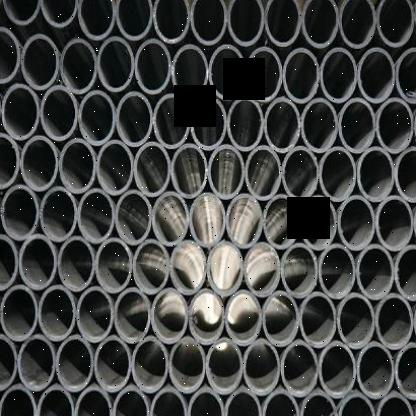pipe: (0, 285, 39, 341), (19, 233, 57, 290), (337, 292, 375, 349), (18, 334, 56, 391), (243, 338, 281, 395), (281, 340, 319, 397), (94, 334, 131, 392), (319, 340, 356, 398), (357, 341, 394, 399), (357, 146, 395, 202), (1, 184, 39, 240), (57, 236, 95, 292), (318, 243, 356, 299), (356, 244, 394, 300), (38, 285, 76, 341), (76, 286, 114, 342), (2, 83, 39, 140), (20, 136, 58, 191), (376, 292, 412, 350), (57, 334, 93, 392), (376, 98, 413, 154), (282, 146, 319, 202), (40, 186, 77, 242), (281, 242, 318, 298), (151, 288, 188, 344), (225, 290, 262, 346), (358, 47, 395, 103), (79, 90, 116, 145), (264, 98, 301, 153), (78, 189, 115, 244), (115, 190, 152, 245), (263, 194, 300, 249), (300, 195, 337, 250), (95, 238, 132, 293), (244, 242, 281, 297), (205, 339, 242, 394), (60, 38, 97, 93), (41, 85, 77, 141), (97, 140, 133, 196), (171, 143, 207, 199), (114, 288, 150, 344), (189, 289, 225, 345), (263, 290, 299, 346), (300, 292, 336, 348), (22, 34, 58, 90), (135, 38, 171, 94), (210, 44, 246, 100), (190, 96, 227, 150), (301, 98, 338, 152), (208, 144, 245, 198), (245, 146, 282, 200), (189, 193, 226, 247), (376, 196, 413, 250), (206, 242, 243, 296), (321, 48, 358, 102), (132, 336, 167, 393), (154, 95, 190, 150), (339, 98, 375, 153), (134, 142, 170, 197), (320, 147, 356, 202), (152, 191, 188, 246), (170, 240, 206, 295), (246, 47, 282, 102), (98, 36, 133, 92), (227, 97, 263, 151), (227, 193, 263, 247), (338, 195, 374, 249), (133, 240, 169, 294), (60, 138, 95, 193), (117, 92, 152, 146), (169, 338, 204, 392), (284, 48, 319, 102), (376, 0, 414, 47), (340, 0, 376, 49), (264, 0, 301, 47), (302, 0, 338, 48), (227, 0, 264, 46), (152, 0, 190, 44), (190, 0, 226, 46), (78, 0, 116, 41), (116, 0, 152, 41), (393, 146, 416, 203), (393, 243, 416, 300), (35, 383, 74, 416), (394, 342, 416, 400), (395, 46, 416, 104), (0, 383, 36, 416), (74, 385, 112, 416), (0, 26, 20, 83), (112, 386, 149, 416), (185, 387, 223, 416), (223, 387, 261, 416), (0, 132, 19, 189), (150, 386, 186, 416), (39, 0, 78, 27), (262, 389, 300, 416), (0, 234, 18, 290), (300, 389, 337, 416), (0, 334, 17, 390), (376, 391, 413, 416), (337, 392, 375, 416), (3, 0, 39, 25)
